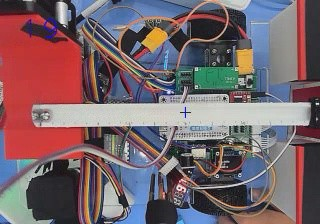ironball: (37, 107, 50, 122)
